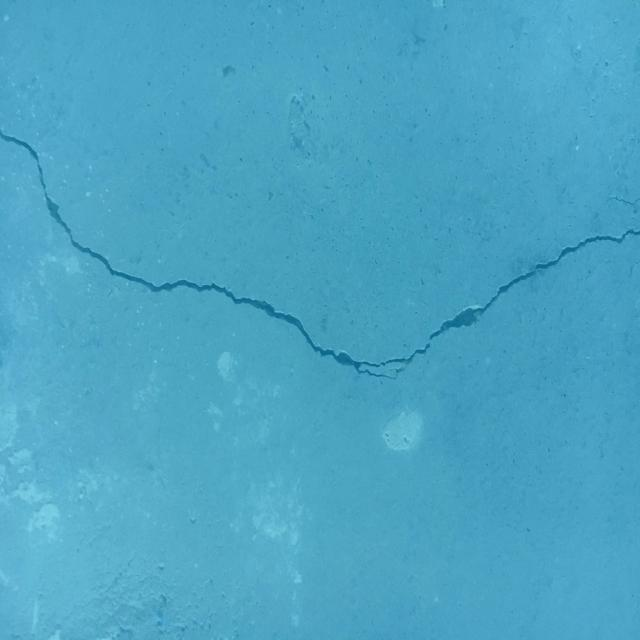crack: (0, 128, 640, 380), (599, 196, 640, 208)
